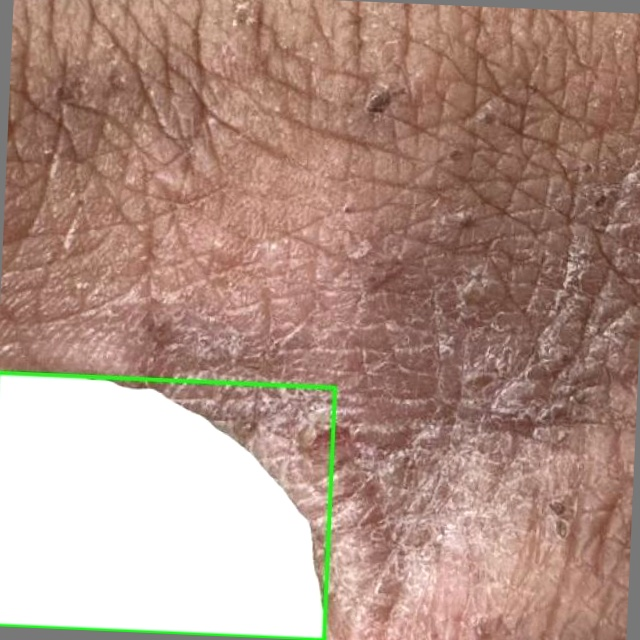Scabies: (0, 372, 335, 639)
